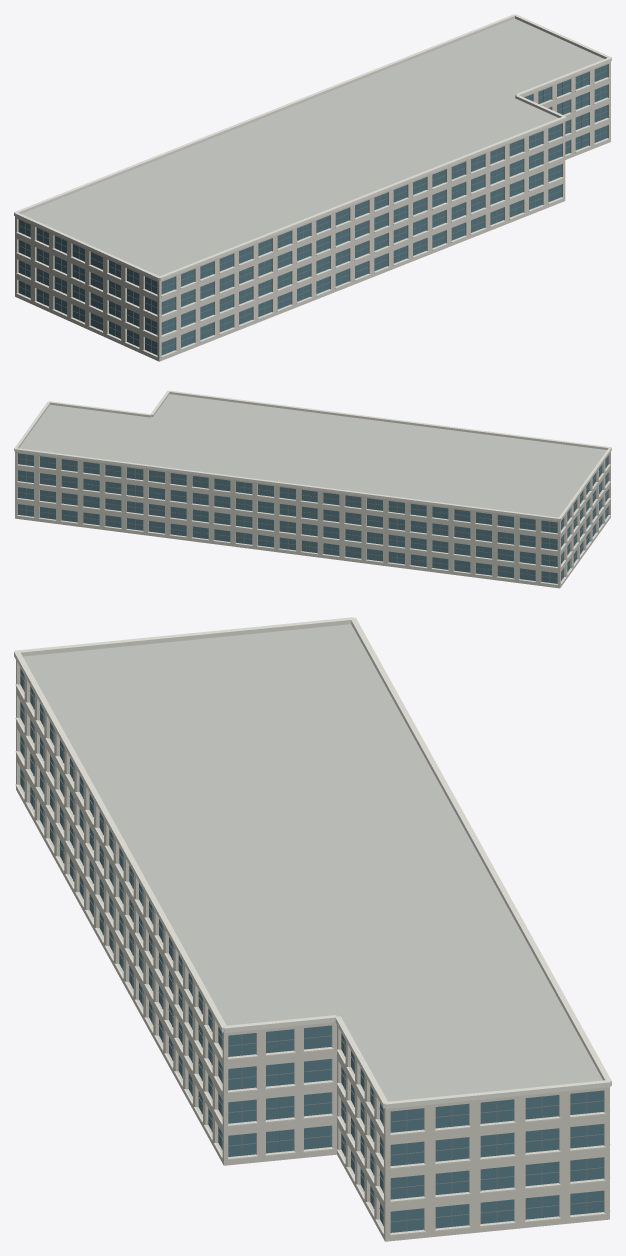
The picture shows the model from 3 angles, top to bottom: view 1: azimuth 30°, elevation 25°; view 2: azimuth 150°, elevation 25°; view 3: azimuth 270°, elevation 25°; orthographic projection. The views are drawn at different scales.
Parts seen in each view (by area): view 1: roof, wall, glass, trim, metal; view 2: roof, wall, glass, trim, metal; view 3: roof, wall, glass, trim, metal.
Boxes of the visible parts, x1=… form: roof: x1=22, y1=18, x2=603, y2=276; wall: x1=15, y1=61, x2=610, y2=361; glass: x1=18, y1=64, x2=607, y2=355; trim: x1=14, y1=14, x2=611, y2=357; metal: x1=18, y1=67, x2=607, y2=352; roof: x1=19, y1=394, x2=606, y2=517; wall: x1=15, y1=451, x2=610, y2=588; glass: x1=18, y1=453, x2=608, y2=583; trim: x1=14, y1=390, x2=611, y2=585; metal: x1=18, y1=454, x2=608, y2=582; roof: x1=23, y1=624, x2=602, y2=1101; wall: x1=16, y1=660, x2=609, y2=1241; glass: x1=20, y1=668, x2=603, y2=1232; trim: x1=14, y1=617, x2=611, y2=1235; metal: x1=20, y1=673, x2=603, y2=1231.
Bounding box in the file's own units: 98.65 × 13.04 × 51.16.
